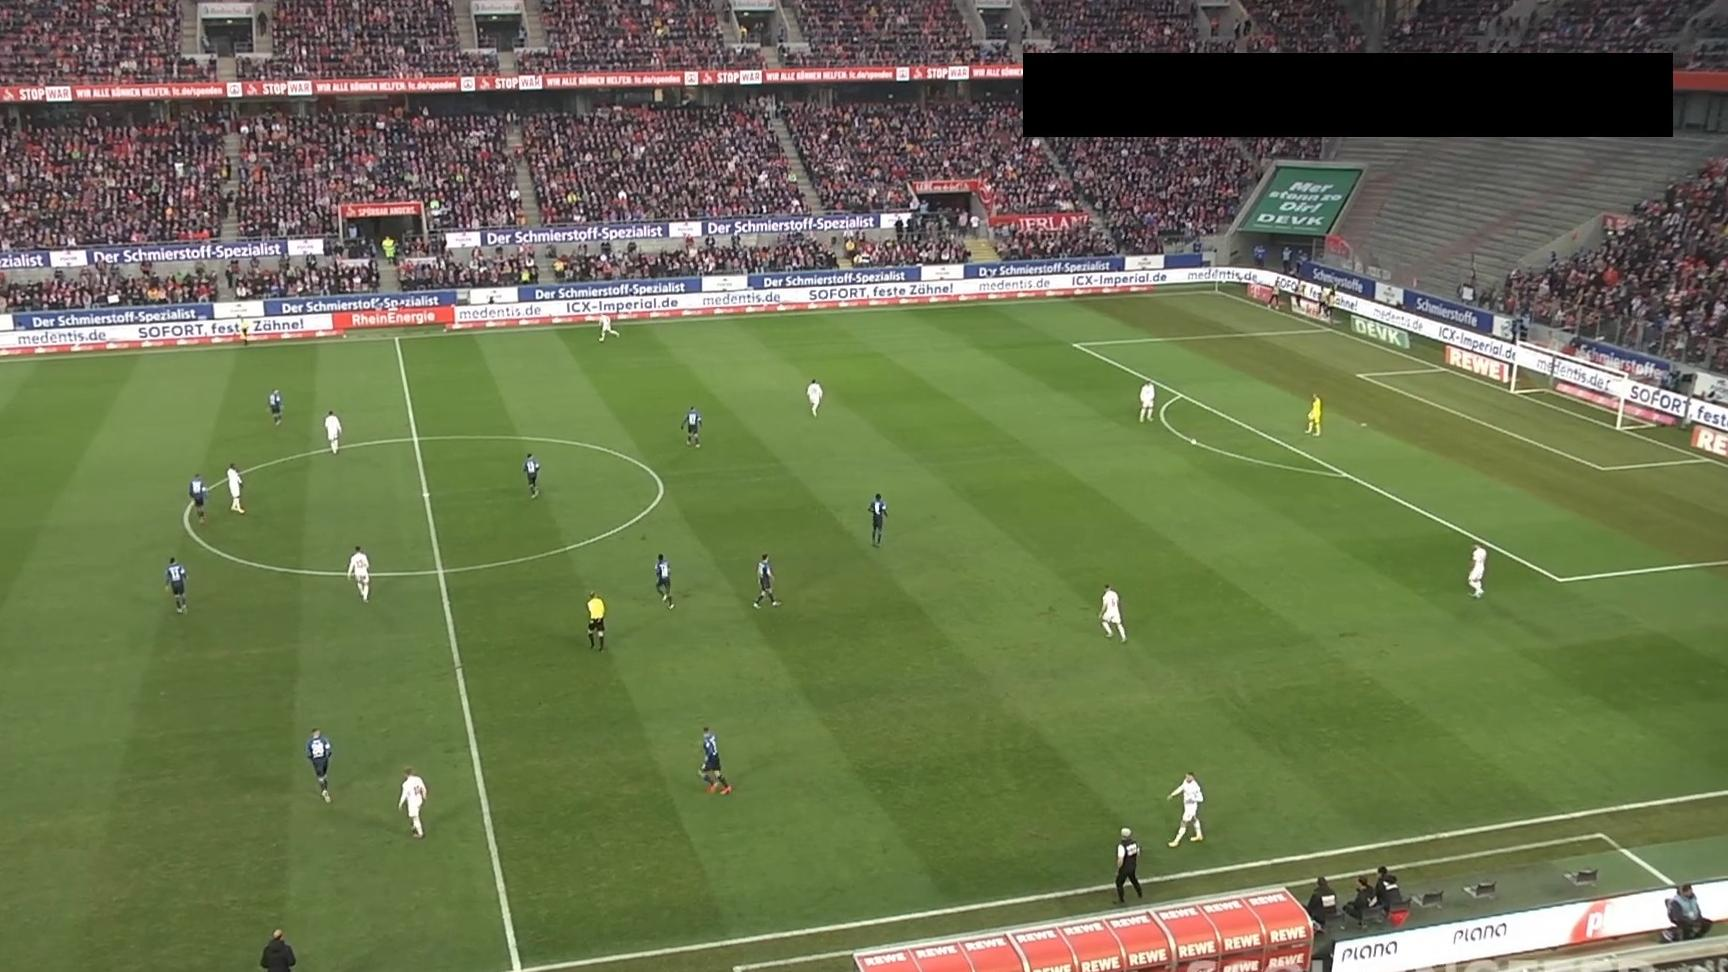ball: (1190, 438, 1198, 446)
